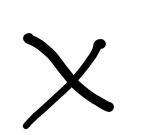mult: (23, 33, 114, 129)
